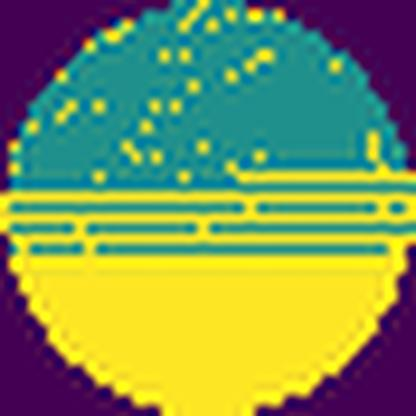Edge-Loc: (0, 166, 416, 416)
